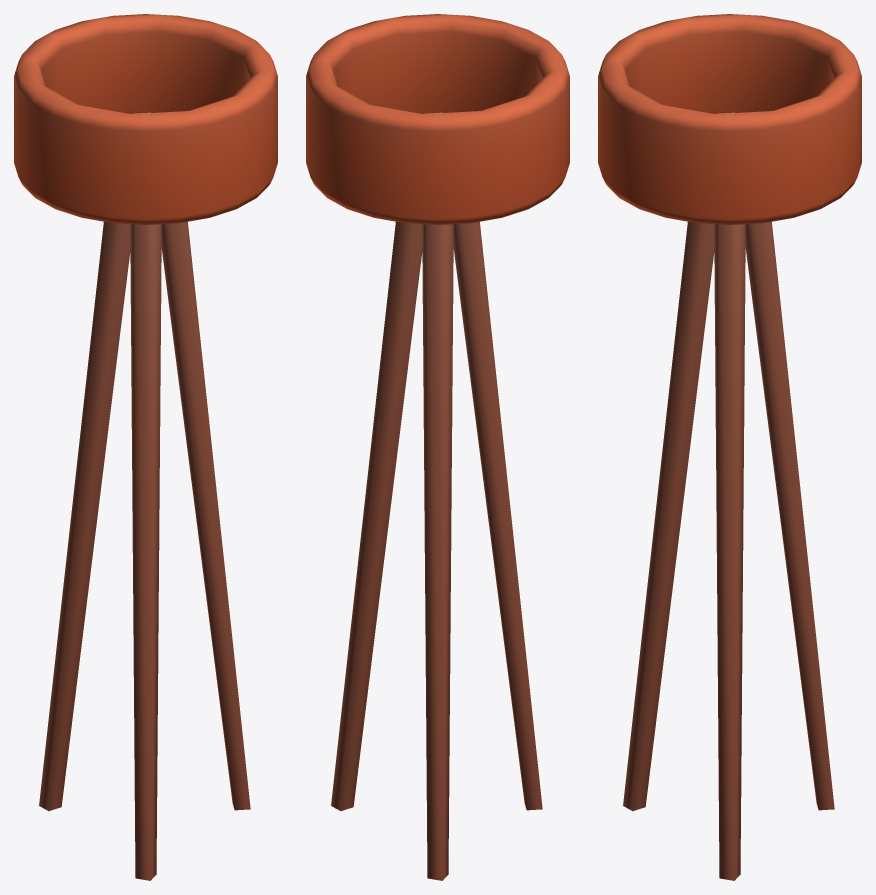
The model's file is Light_05.fbx.
3 renders of one model, left to right at view 1: azimuth 30°, elevation 25°; view 2: azimuth 150°, elevation 25°; view 3: azimuth 270°, elevation 25°, orthographic.
Visible parts, largest first — view 1: Light_05; view 2: Light_05; view 3: Light_05.
Part boxes in pixels (left/top/right/bottom): Light_05: left=14, top=14, right=277, bottom=880; Light_05: left=306, top=14, right=569, bottom=880; Light_05: left=598, top=14, right=861, bottom=880.
Bounding box in the file's own units: 0.4375 × 1.4 × 0.4375.
